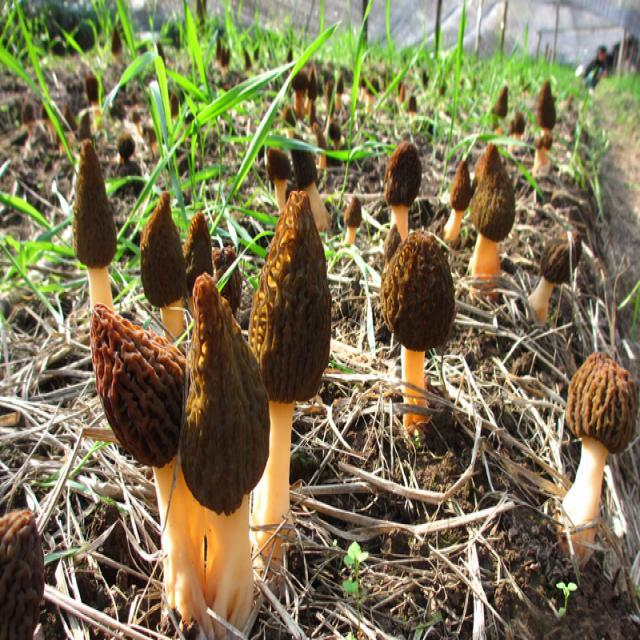Morchella esculenta: (88, 303, 208, 616), (185, 274, 270, 620), (253, 191, 331, 548), (562, 350, 635, 554), (382, 227, 453, 414), (70, 144, 115, 314), (143, 190, 187, 336), (469, 142, 514, 284), (537, 228, 580, 323), (293, 145, 329, 229), (387, 141, 418, 237), (448, 161, 470, 252), (535, 85, 557, 175), (189, 208, 214, 285), (268, 150, 290, 215), (343, 189, 362, 245)
